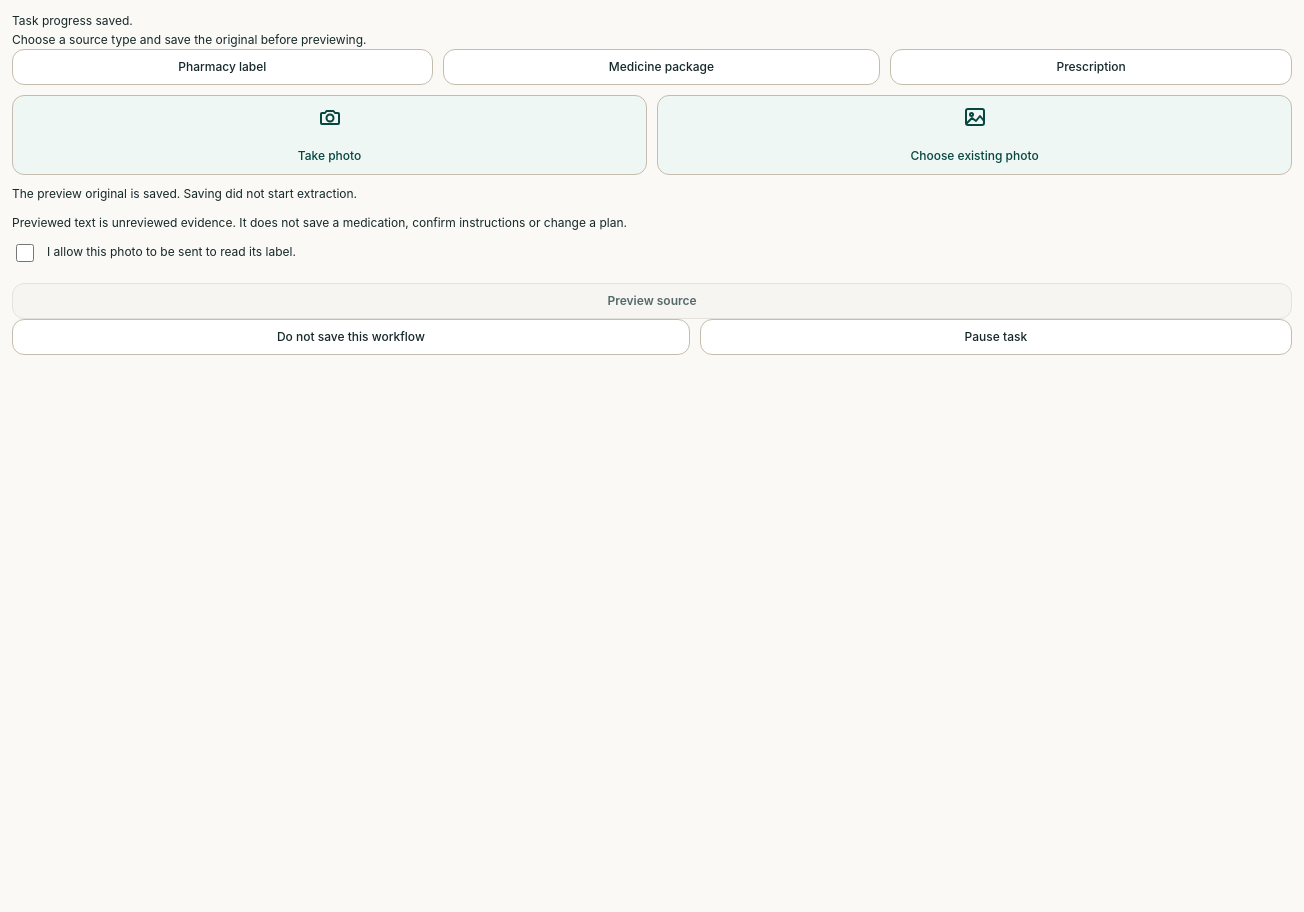
Test case: requires explicit consent, reads the resumed original and shows evidence without a plan form or implied save
Expected: the button "Preview source" is disabled, [12,283,1292,319]
Click the checkbox at (25, 253), box [16,244,34,262]
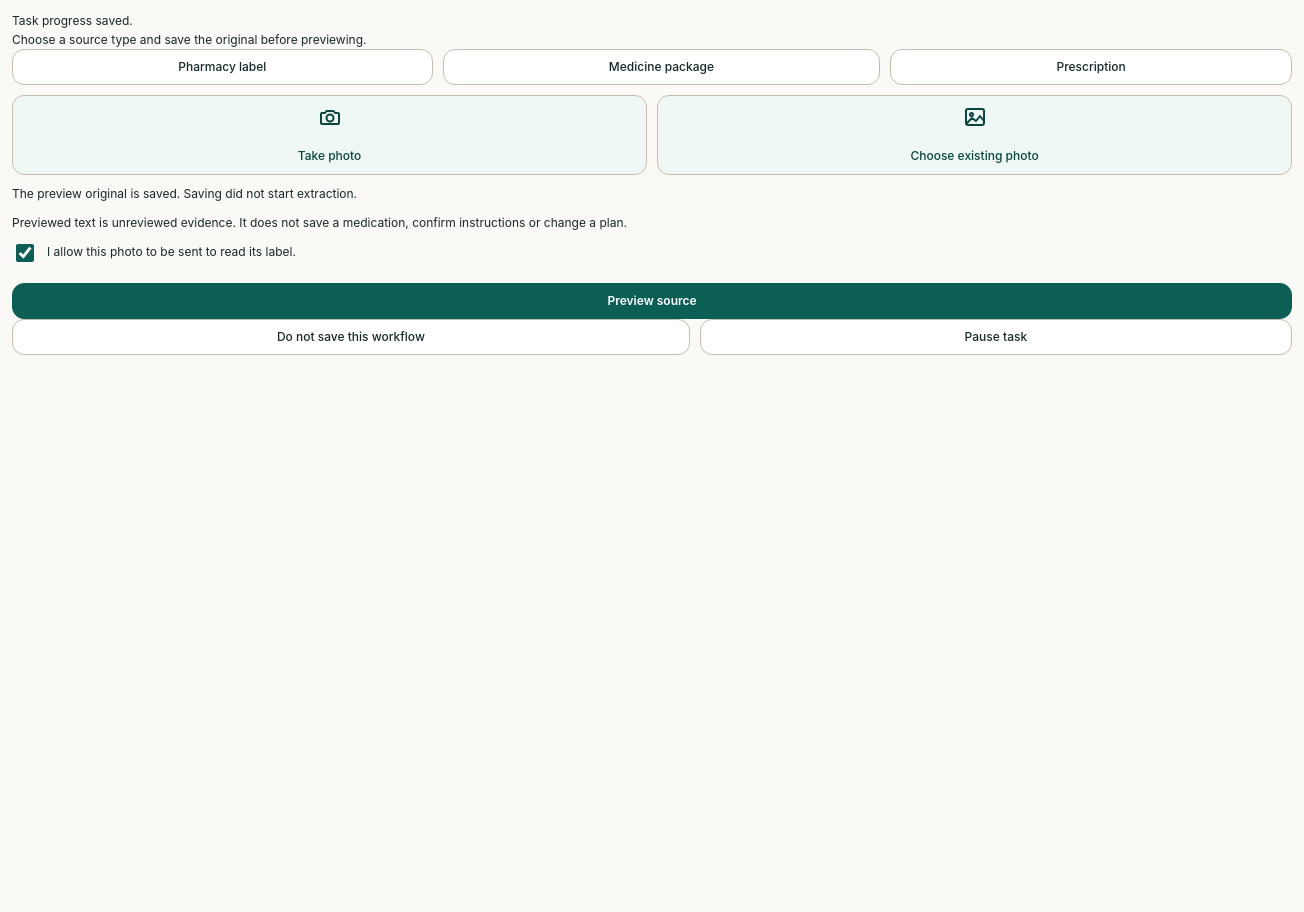
Click the button "Preview source" at (652, 301), box [12,283,1292,319]
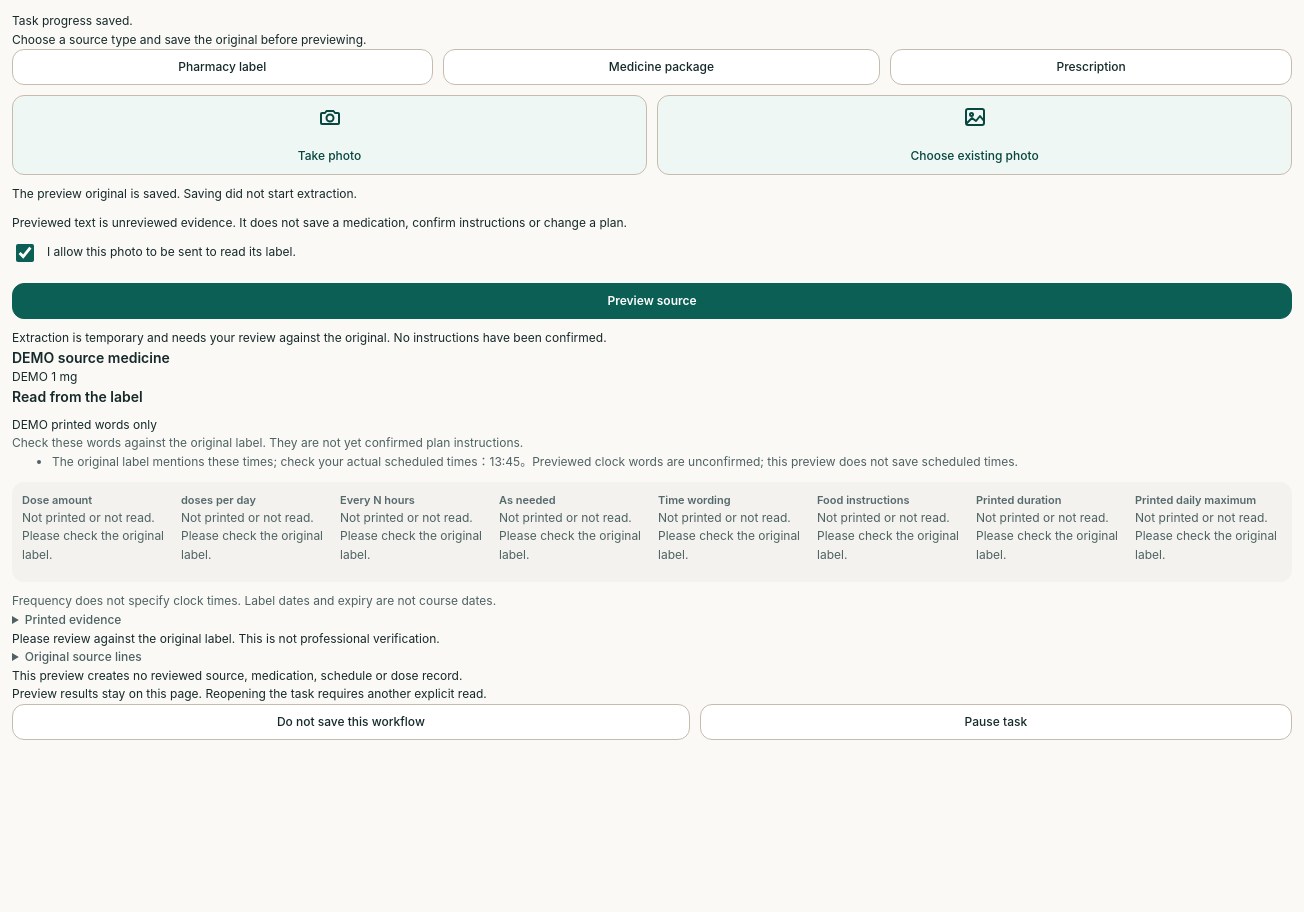
Result: the heading "DEMO source medicine" is shown at [12,349,170,366]
Result: the text "DEMO printed words only" is shown at [12,417,157,432]
Result: the text "Previewed clock words are unconfirmed; this preview does not save scheduled times." is shown at [532,454,1018,469]
